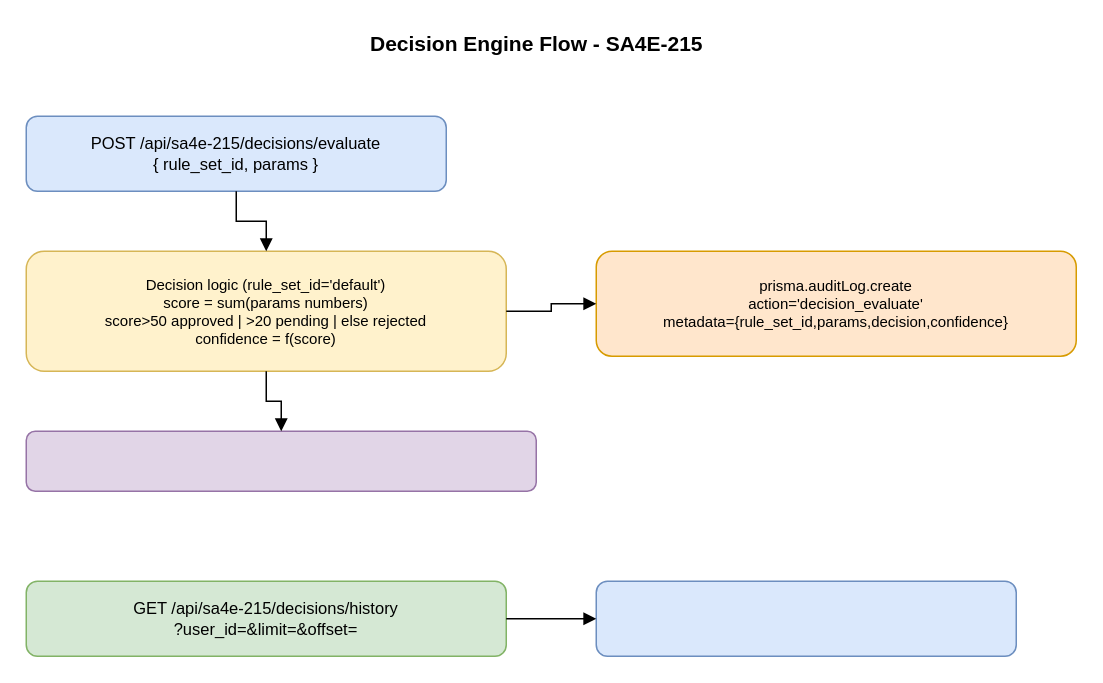
Some shapes in this 1103 by 683 pixel diagram are drawn without their labels. The centre of each missing label's shape, as x and y in pixels:
"200 { decision, confidence, audit_id, evaluated_at }" goes at (280,460).
"decisions + users tables (join user.email, role)" goes at (805,618).
